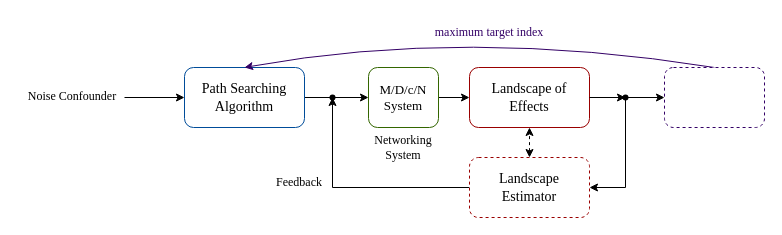
Some shapes in this 782 by 235 pixel diagram are drawn without their labels. The box of each missing label's shape, as (x1, y1, x2, y2) in pixels:
Cause: (306, 76, 358, 118)
Target Routing Index: (664, 66, 764, 128)
